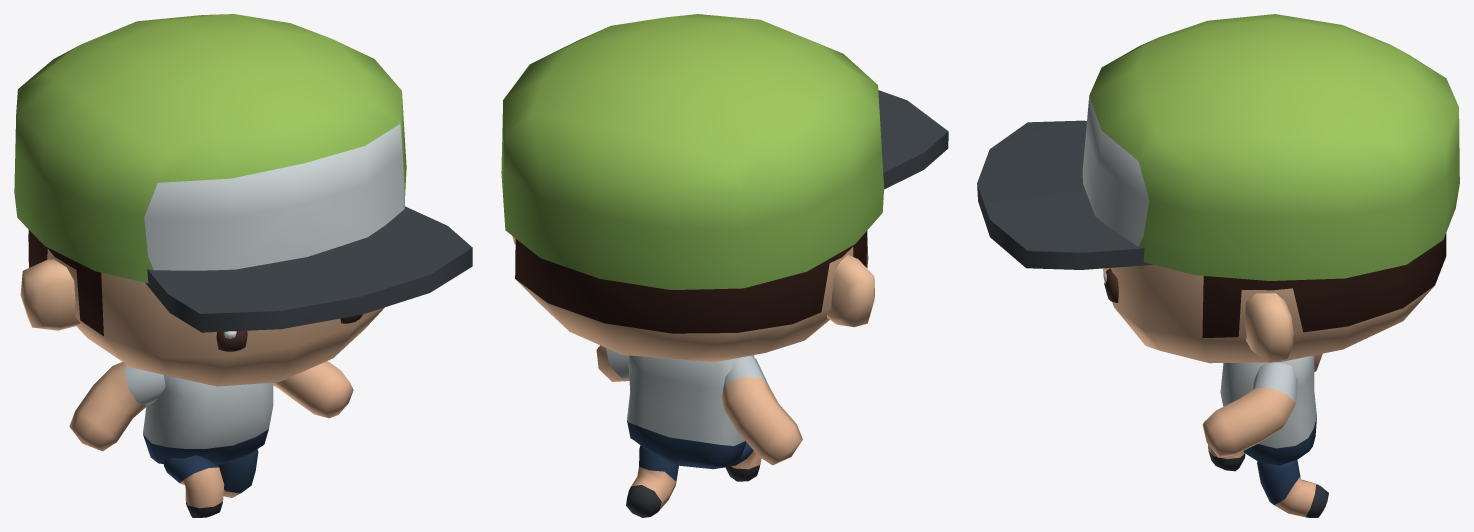
File: run_0007.obj
3 views of the same model, side by side, from view 1: azimuth 30°, elevation 25°; view 2: azimuth 150°, elevation 25°; view 3: azimuth 270°, elevation 25° (orthographic). The views are drawn at different scales.
Parts seen in each view (by area): view 1: Object_41, Object_42, Object_36, Object_44, Object_38; view 2: Object_41, Object_36, Object_44, Object_42; view 3: Object_41, Object_36, Object_42, Object_44.
Boxes of the visible parts, x1=… form: Object_41: x1=14, y1=14, x2=406, y2=283; Object_42: x1=144, y1=124, x2=472, y2=332; Object_36: x1=20, y1=230, x2=384, y2=386; Object_44: x1=69, y1=361, x2=353, y2=517; Object_38: x1=216, y1=314, x2=362, y2=351; Object_41: x1=501, y1=14, x2=884, y2=289; Object_36: x1=512, y1=231, x2=874, y2=362; Object_44: x1=596, y1=345, x2=802, y2=517; Object_42: x1=878, y1=90, x2=948, y2=189; Object_41: x1=1089, y1=14, x2=1459, y2=280; Object_36: x1=1103, y1=233, x2=1446, y2=363; Object_42: x1=977, y1=96, x2=1152, y2=269; Object_44: x1=1202, y1=353, x2=1328, y2=517.
Bounding box in the file's own units: 0.9691 × 1.18 × 1.13.
